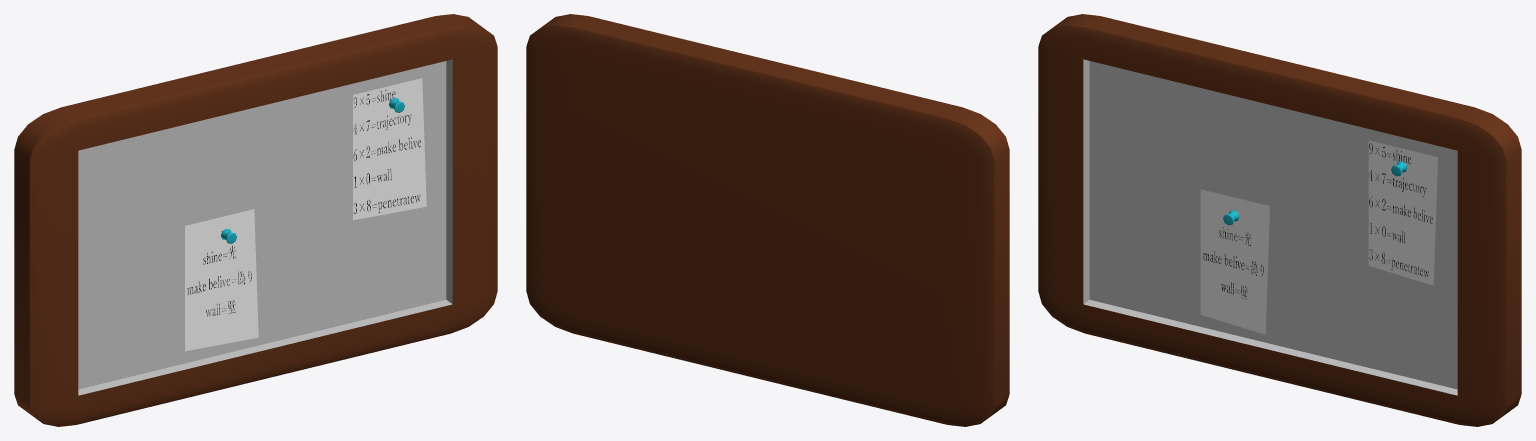
File: keigi2.fbx
The picture shows the model from 3 angles, left to right: view 1: azimuth 30°, elevation 25°; view 2: azimuth 150°, elevation 25°; view 3: azimuth 330°, elevation 25°; orthographic projection.
Visible parts, largest first — view 1: obj1, obj5, obj4; view 2: obj1; view 3: obj1, obj5, obj4.
Boxes of the visible parts, <box> form: obj1: <box>14,14,497,426</box>; obj5: <box>185,209,258,351</box>; obj4: <box>353,78,426,220</box>; obj1: <box>526,14,1009,426</box>; obj1: <box>1038,14,1521,426</box>; obj5: <box>1200,189,1269,334</box>; obj4: <box>1368,140,1437,285</box>.
Bounding box in the file's own units: 195 × 122 × 17.05.
